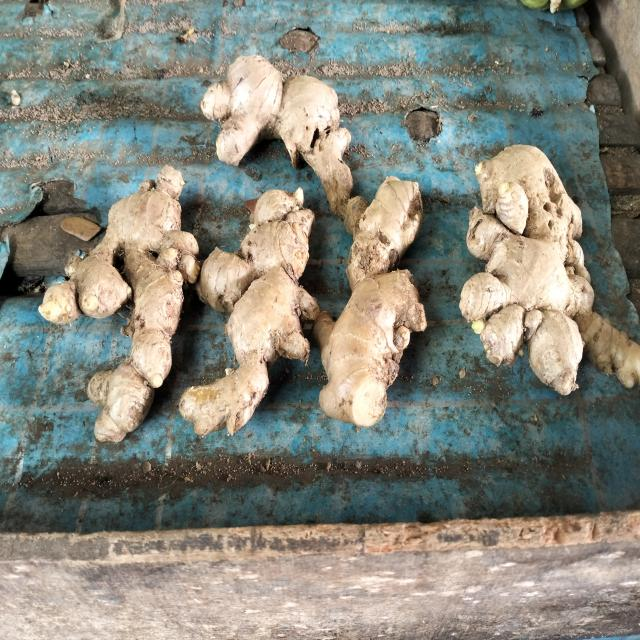ginger: (462, 133, 640, 373), (44, 159, 191, 447), (192, 176, 316, 433), (199, 23, 356, 206), (334, 170, 423, 434)
